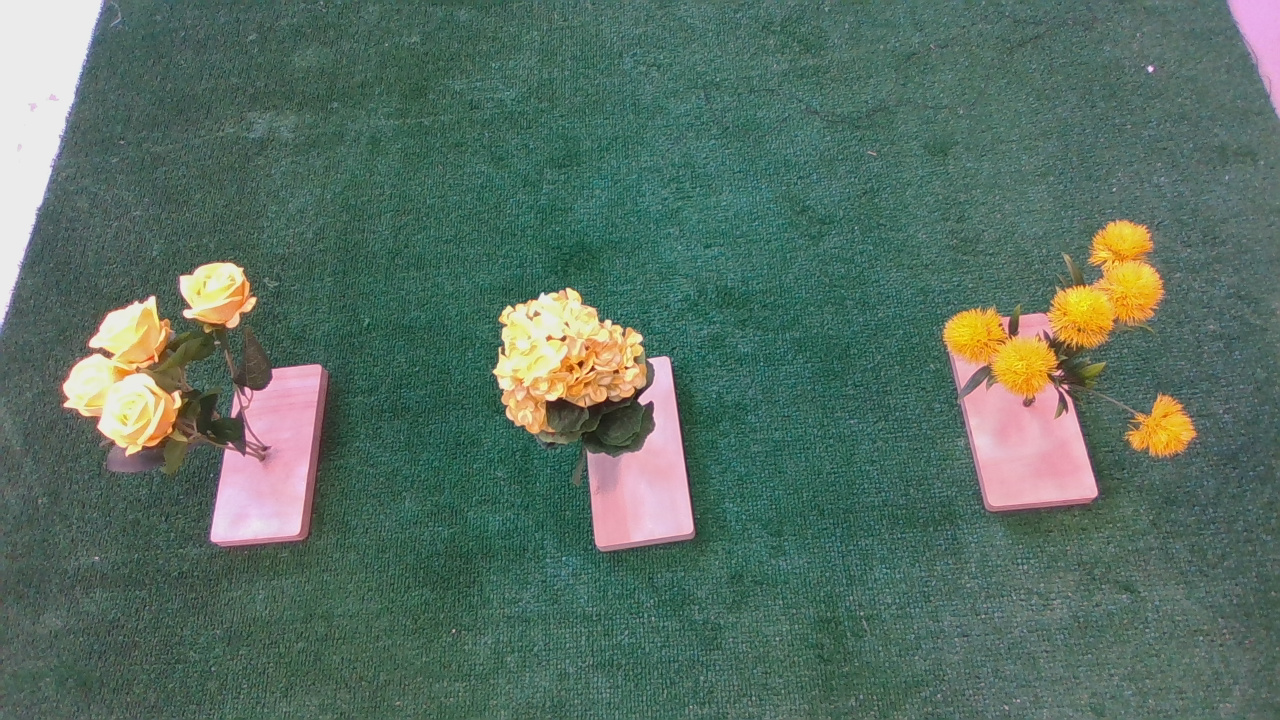dandelion: (899, 225, 1213, 468)
geranium: (486, 286, 670, 462)
rose: (55, 249, 316, 477)
